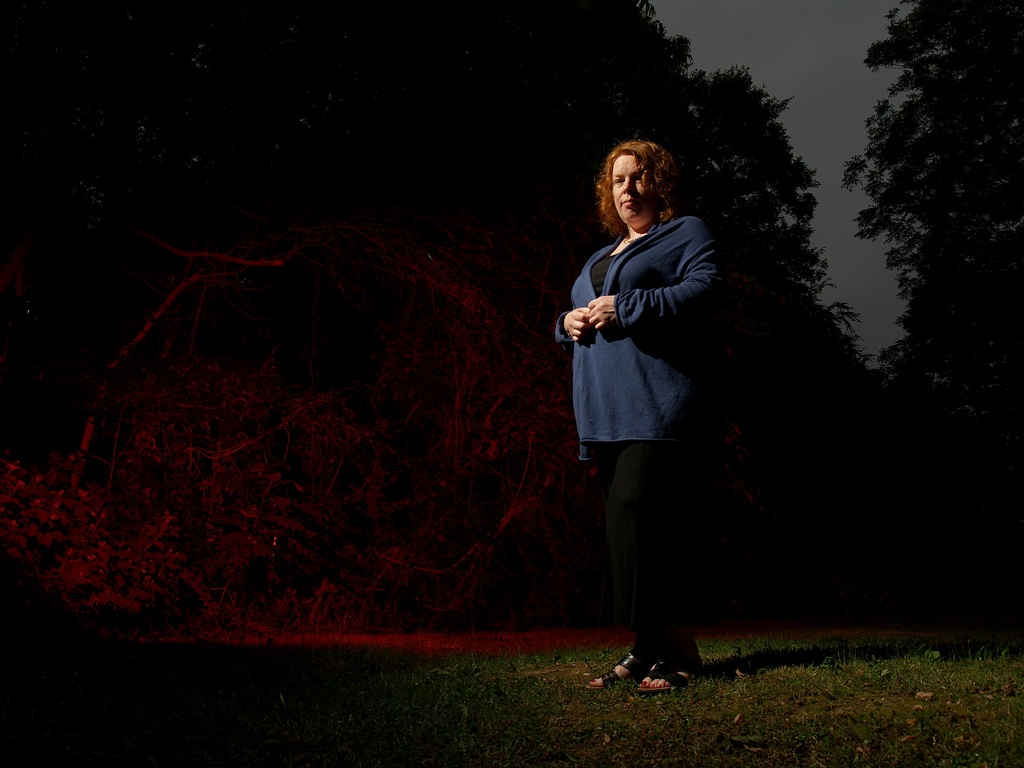Human_hand: (561, 305, 591, 347), (588, 294, 617, 332)
